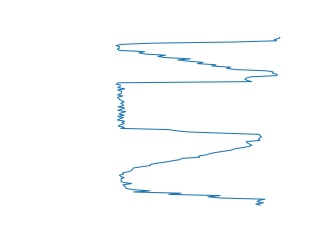distributaryChannelFill: (111, 72, 265, 141)
mouthBar: (112, 34, 283, 77)
underwaterDistributaryChannel: (116, 136, 268, 210)
